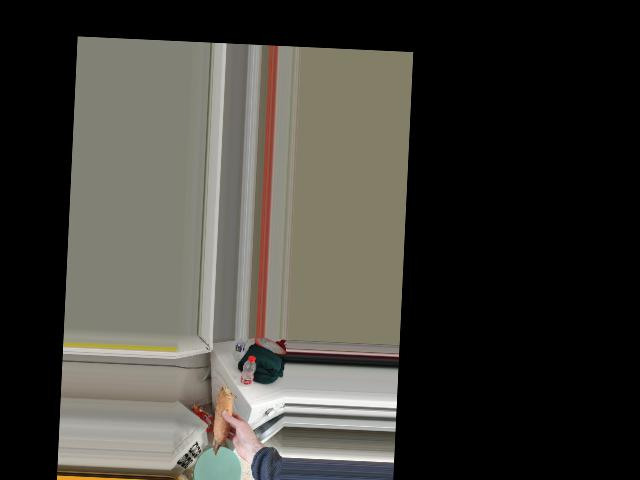sweet_potato: (213, 392, 236, 451)
